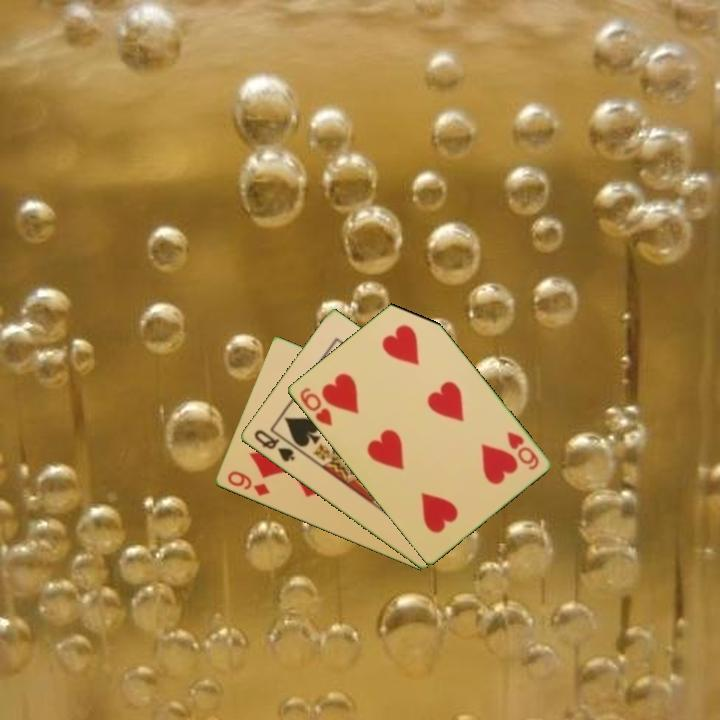6h: (296, 384, 335, 429), (503, 428, 541, 473)
9d: (223, 467, 272, 499)
Qs: (250, 426, 298, 465)
